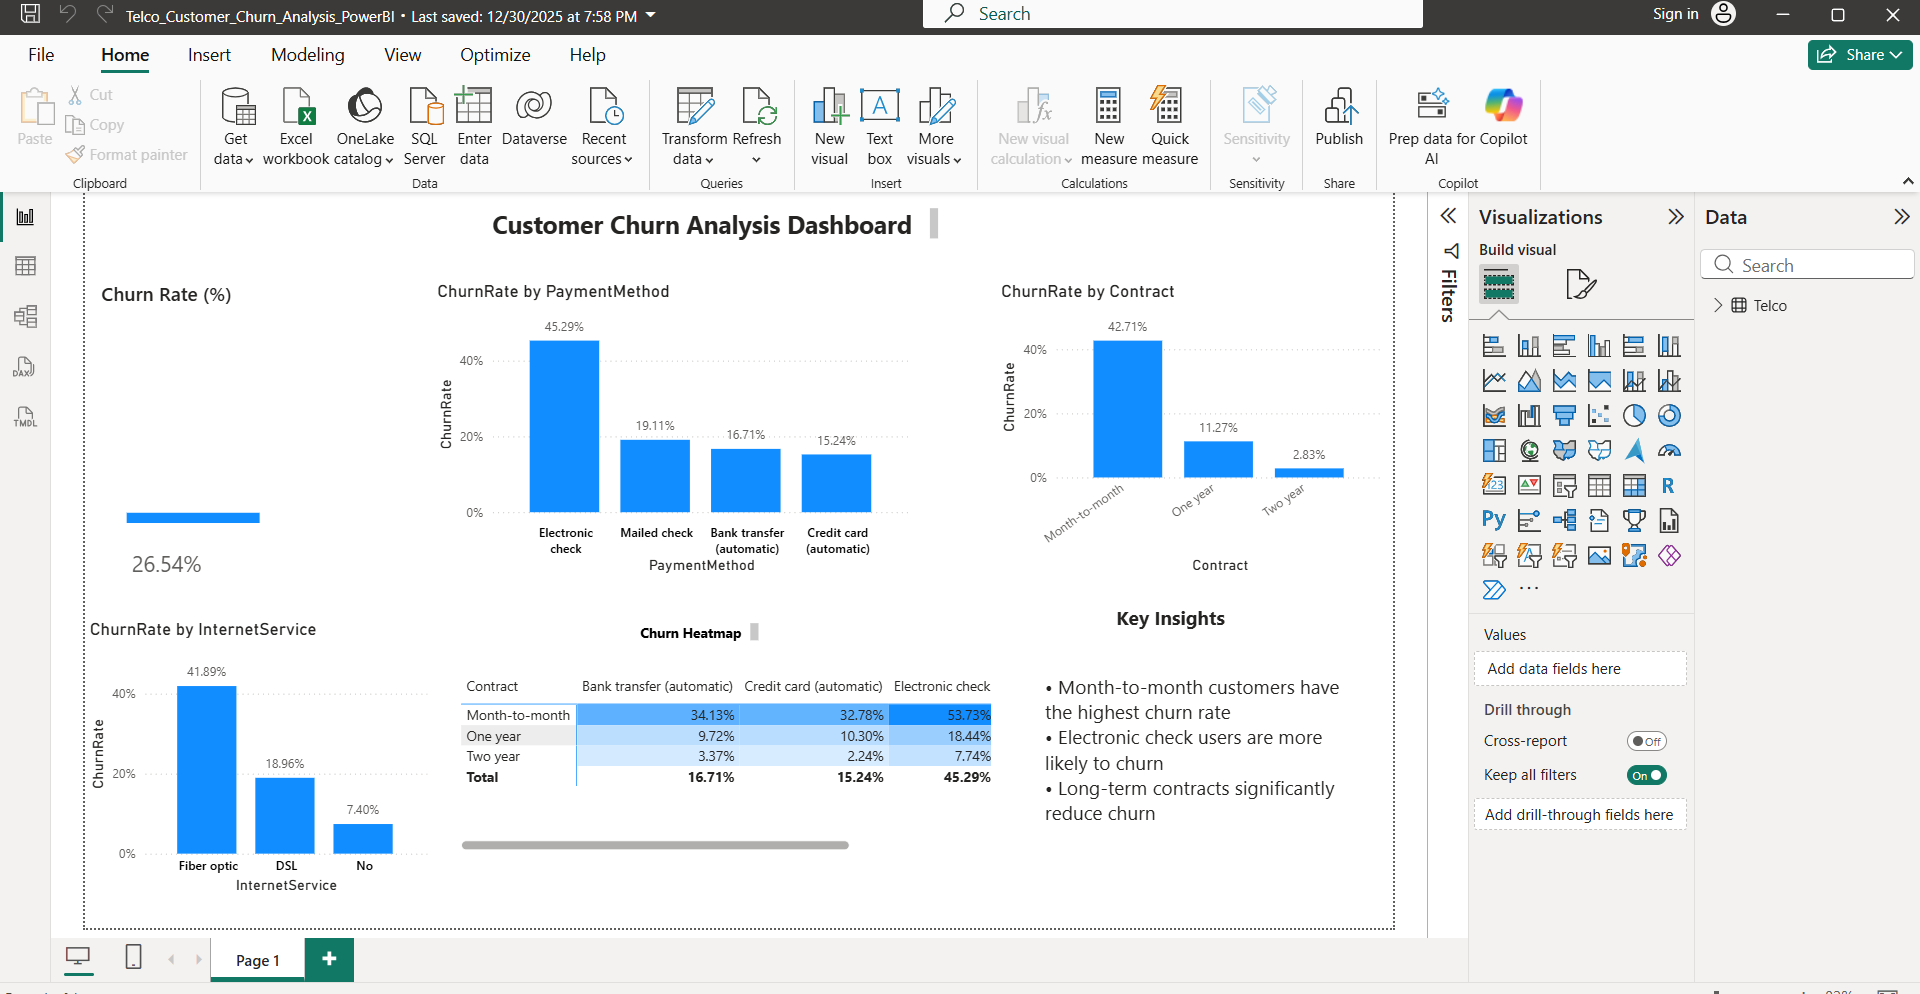

Layout of this report page (visuals, bound fields, positions):
{"tool":"powerbi","page":{"name":"Page 1","canvas":[1280,720],"ordinal":0},"visuals":[{"type":"decompositionTreeVisual","title":"Churn Rate (%)","fields":{"Analyze":["Telco.ChurnRate"]},"box":[11.4,87.1,271.4,302.9],"z":0},{"type":"clusteredColumnChart","fields":{"Category":["Telco.Contract"],"Y":["Telco.ChurnRate"]},"box":[891.4,87.1,384.3,291.4],"z":1000},{"type":"clusteredColumnChart","fields":{"Category":["Telco.PaymentMethod"],"Y":["Telco.ChurnRate"]},"box":[340,87.1,472.9,291.4],"z":2000},{"type":"clusteredColumnChart","fields":{"Category":["Telco.InternetService"],"Y":["Telco.ChurnRate"]},"box":[0,417.1,340,274.3],"z":3000},{"type":"pivotTable","fields":{"Rows":["Telco.Contract"],"Columns":["Telco.PaymentMethod"],"Values":["Telco.ChurnRate"]},"box":[362.9,467.1,528.6,181.4],"z":4000},{"type":"textbox","box":[538.6,417.1,125.7,38.6],"z":5000},{"type":"textbox","box":[934.3,465.7,317.1,181.4],"z":6000},{"type":"textbox","box":[1004.3,398.6,157.1,55.7],"z":7000},{"type":"textbox","box":[394.3,11.4,445.7,48.6],"z":8000}]}

Visuals, with their boxes on the page's 1280x720 design canvas (x1, y1, x2, y2). These are canvas units, not pixel positions in the 1920x994 screenshot, which may show the page scaled, cropped or inside an application window:
"Churn Rate (%)" decompositionTreeVisual: 11 87 283 390
clusteredColumnChart - Telco.Contract x Telco.ChurnRate: 891 87 1276 378
clusteredColumnChart - Telco.PaymentMethod x Telco.ChurnRate: 340 87 813 378
clusteredColumnChart - Telco.InternetService x Telco.ChurnRate: 0 417 340 691
pivotTable - Telco.Contract x Telco.PaymentMethod: 363 467 892 648
textbox: 539 417 664 456
textbox: 934 466 1251 647
textbox: 1004 399 1161 454
textbox: 394 11 840 60
